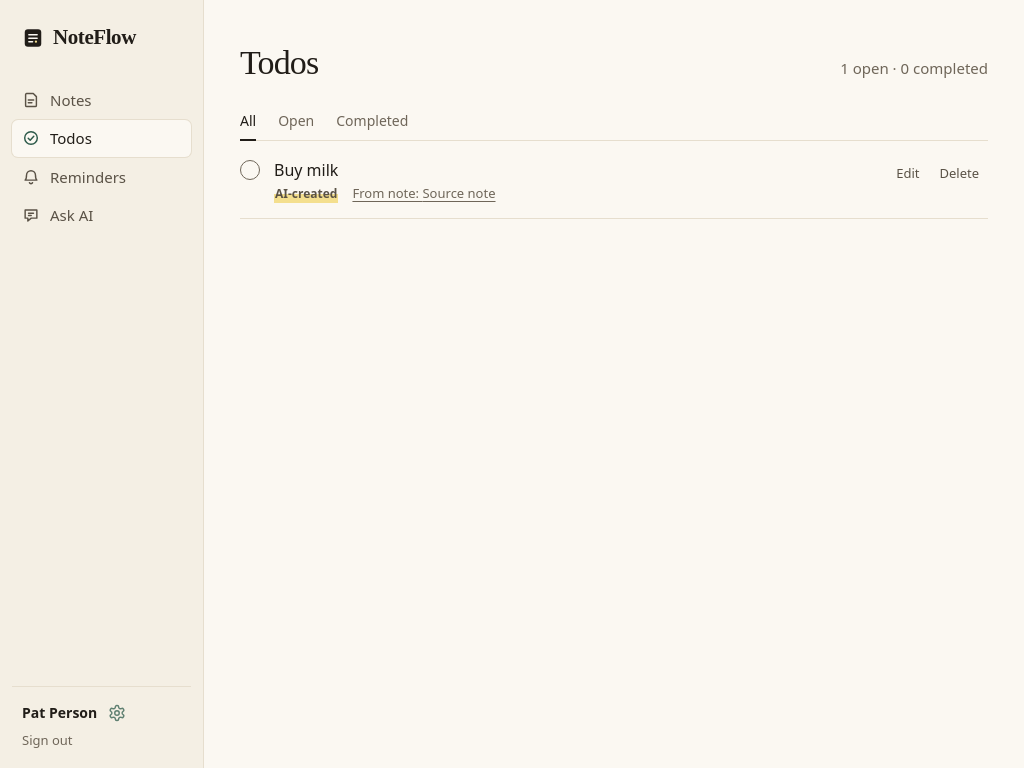
Test case: completion › marks a todo done with a PATCH and updates the page
What coordinates should you click on to do the following:
click the checkbox named "mark as done: buy milk"
I would click on:
 (250, 170)
Its box is [240,160,260,180].
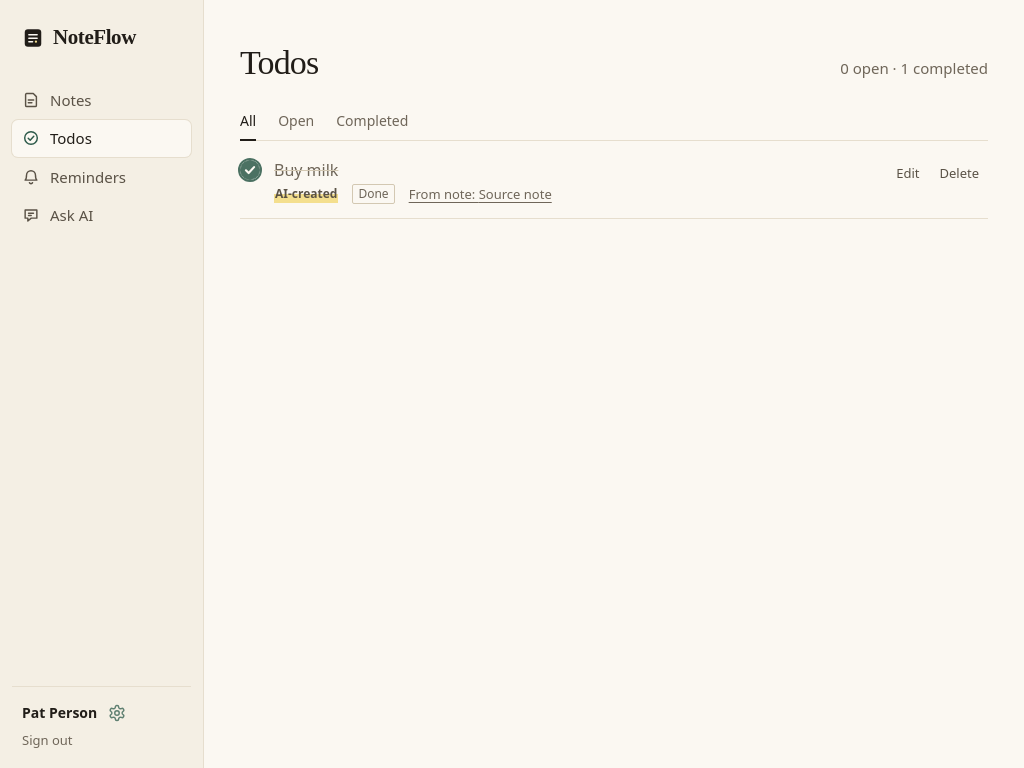
Now the checkbox is checked, box [240,160,260,180]
Now the text "0 open · 1 completed" is shown, box [840,57,988,80]
